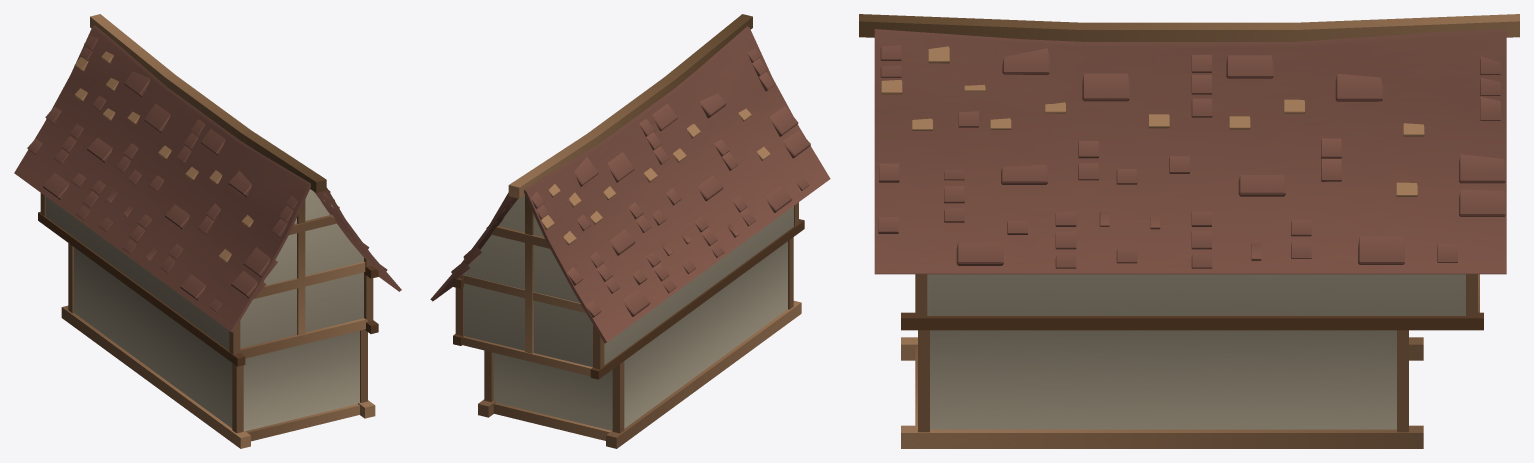
Rendered from ZLP_Build_B_9.FBX.
The picture shows the model from 3 angles, left to right: view 1: azimuth 30°, elevation 25°; view 2: azimuth 150°, elevation 25°; view 3: azimuth 270°, elevation 25°; orthographic projection. The views are drawn at different scales.
Visible parts, largest first — view 1: ZLP_Build_B_9; view 2: ZLP_Build_B_9; view 3: ZLP_Build_B_9.
Part boxes in pixels (x1=…): ZLP_Build_B_9: x1=14, y1=14, x2=401, y2=448; ZLP_Build_B_9: x1=430, y1=14, x2=830, y2=448; ZLP_Build_B_9: x1=859, y1=14, x2=1519, y2=448.
Bounding box in the file's own units: 423 × 619 × 967.
